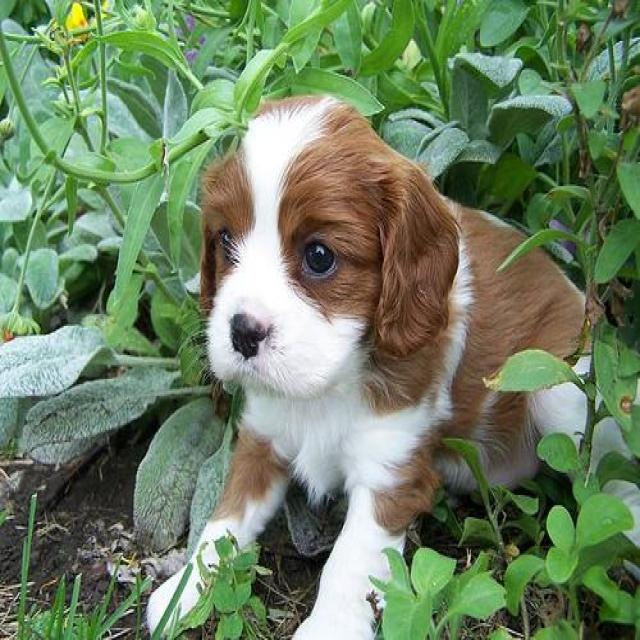blenheim_spaniel: (144, 91, 638, 638)
